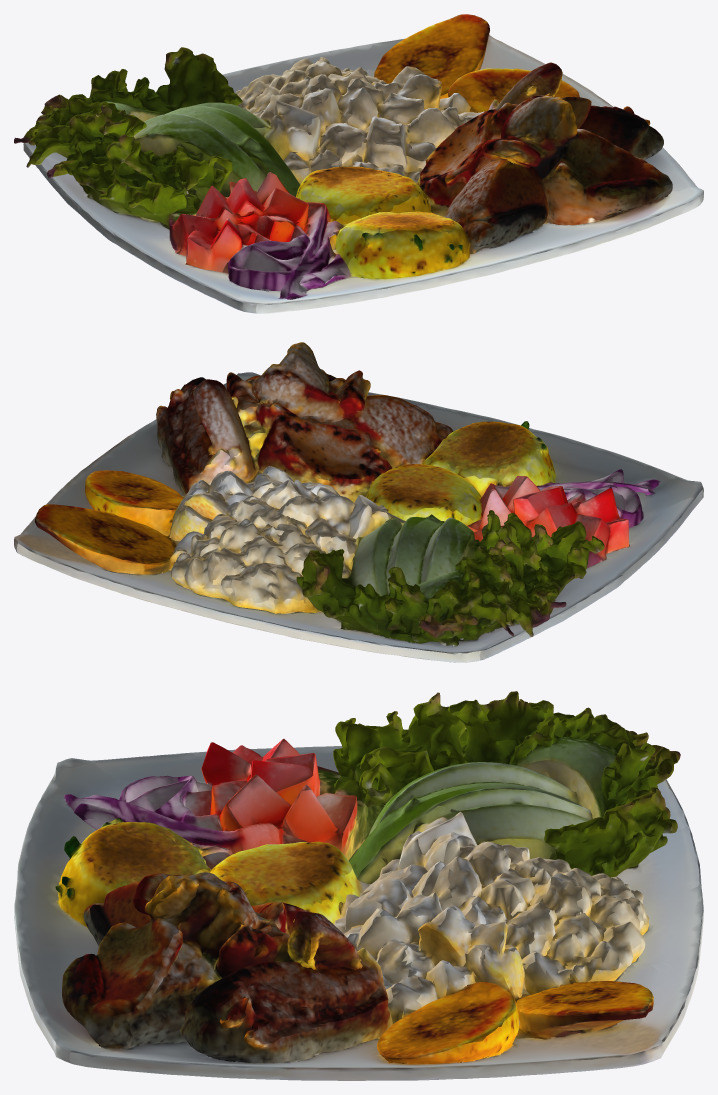
The model's file is strong2.glb.
The picture shows the model from 3 angles, top to bottom: view 1: azimuth 30°, elevation 25°; view 2: azimuth 150°, elevation 25°; view 3: azimuth 270°, elevation 25°; orthographic projection. The views are drawn at different scales.
Visible parts, largest first — view 1: geometry_0; view 2: geometry_0; view 3: geometry_0.
Part boxes in pixels (left/top/right/bottom): geometry_0: left=14, top=14, right=703, bottom=313; geometry_0: left=14, top=342, right=703, bottom=662; geometry_0: left=14, top=691, right=703, bottom=1080.
Bounding box in the file's own units: 0.2624 × 0.065 × 0.2348.
1 material, 1 textured.
